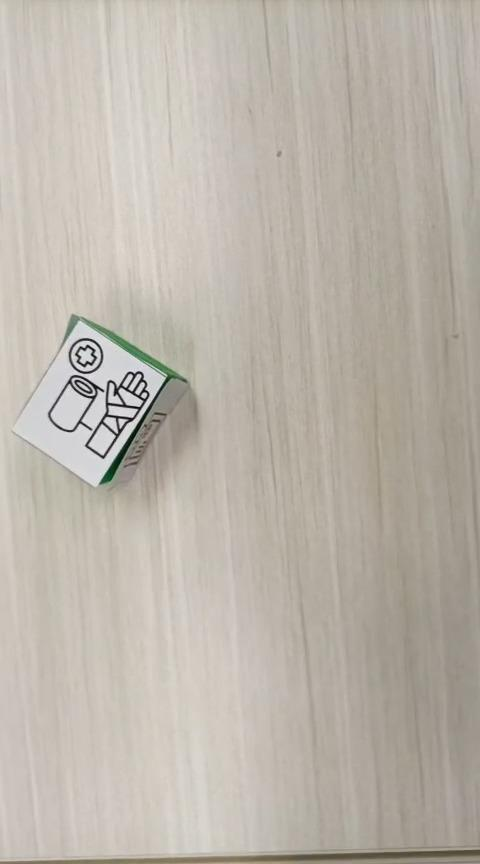Bandages: (11, 312, 189, 491)
